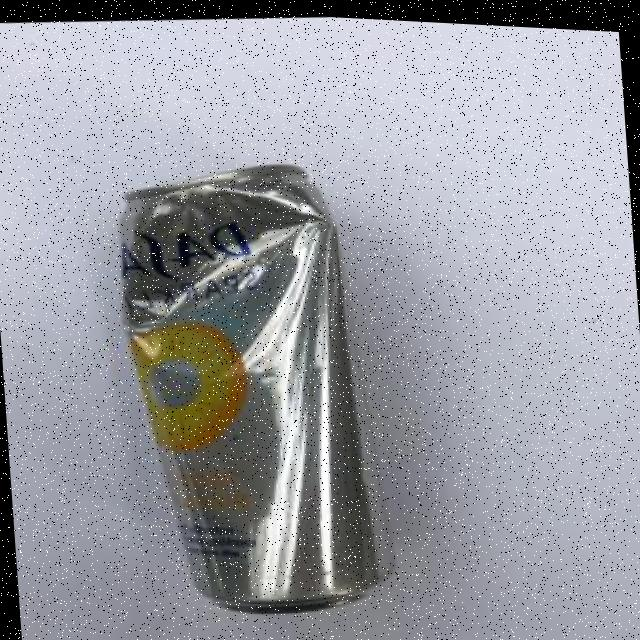metal: (94, 132, 410, 632)
